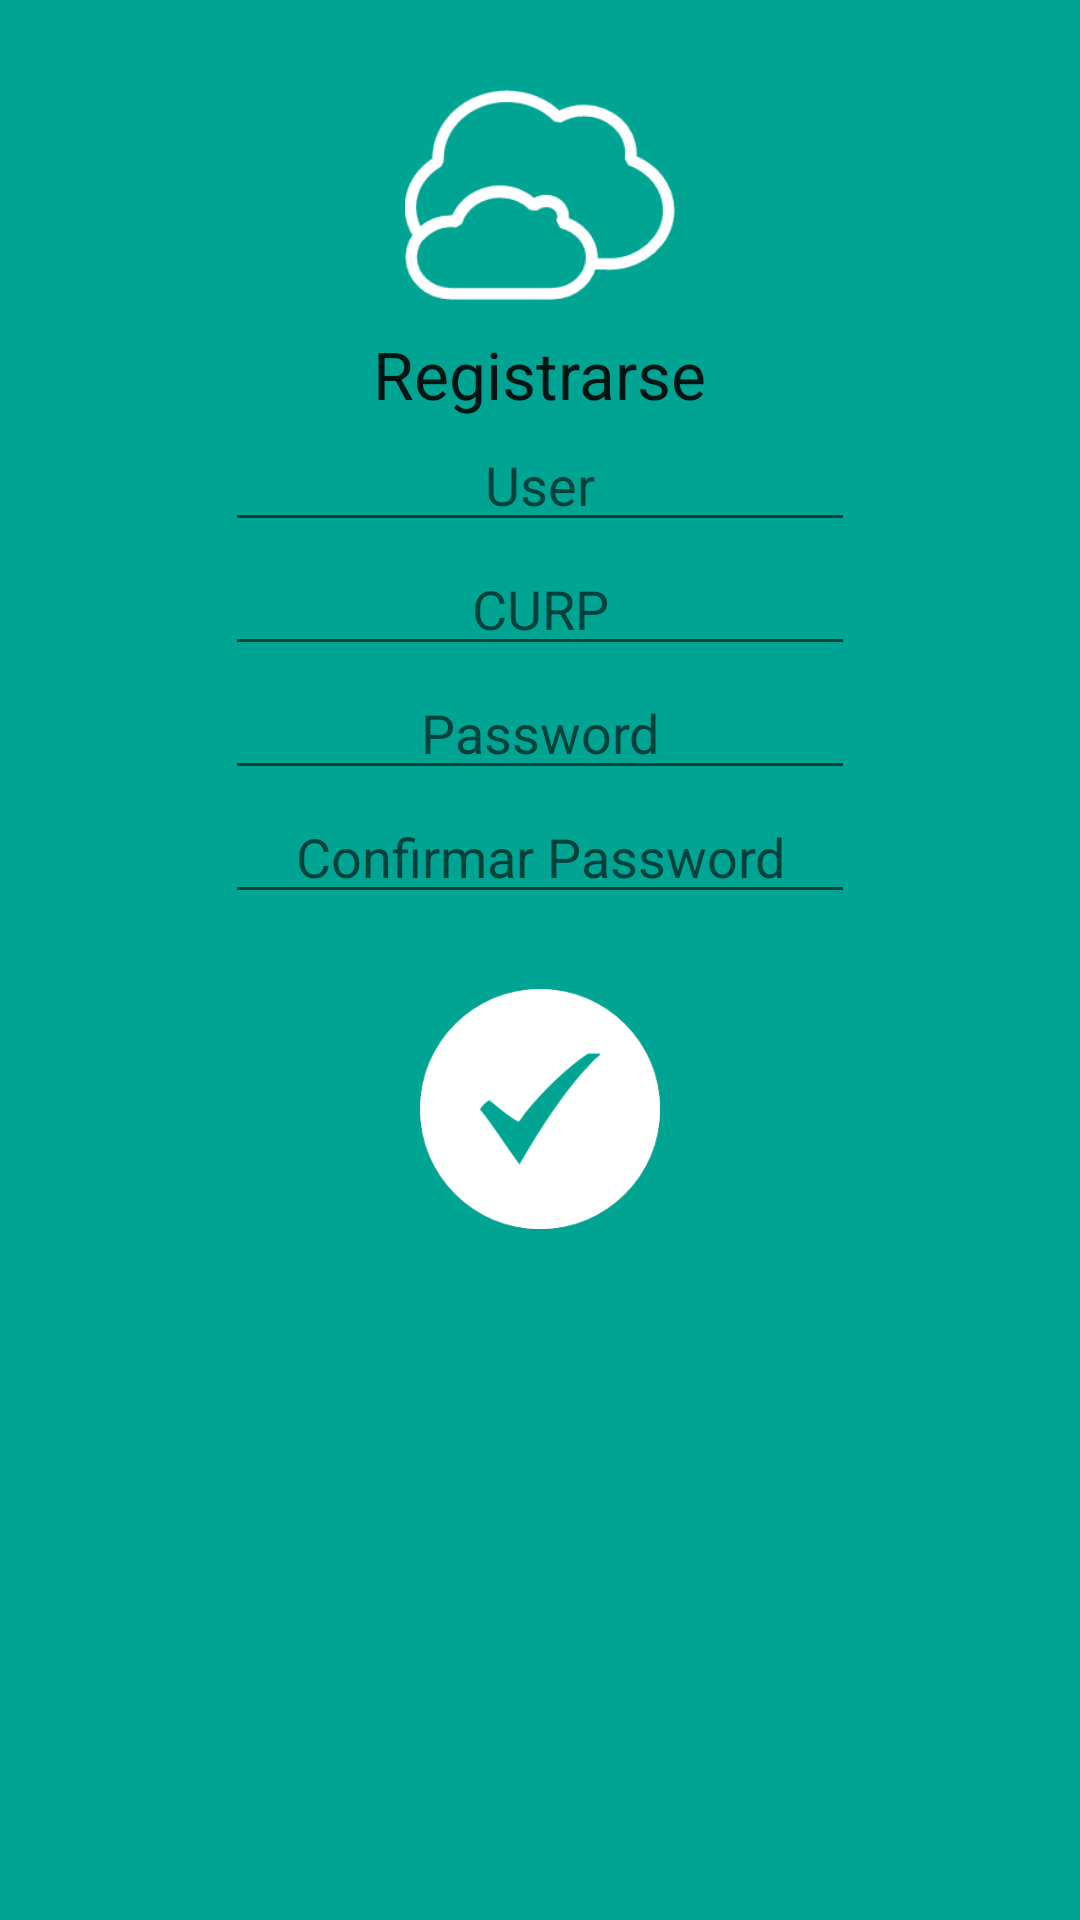

Where icons sit on this 1080 x 1920 app screen, as Rect(x1, y1, x2, y2):
check: Rect(420, 989, 660, 1229)
